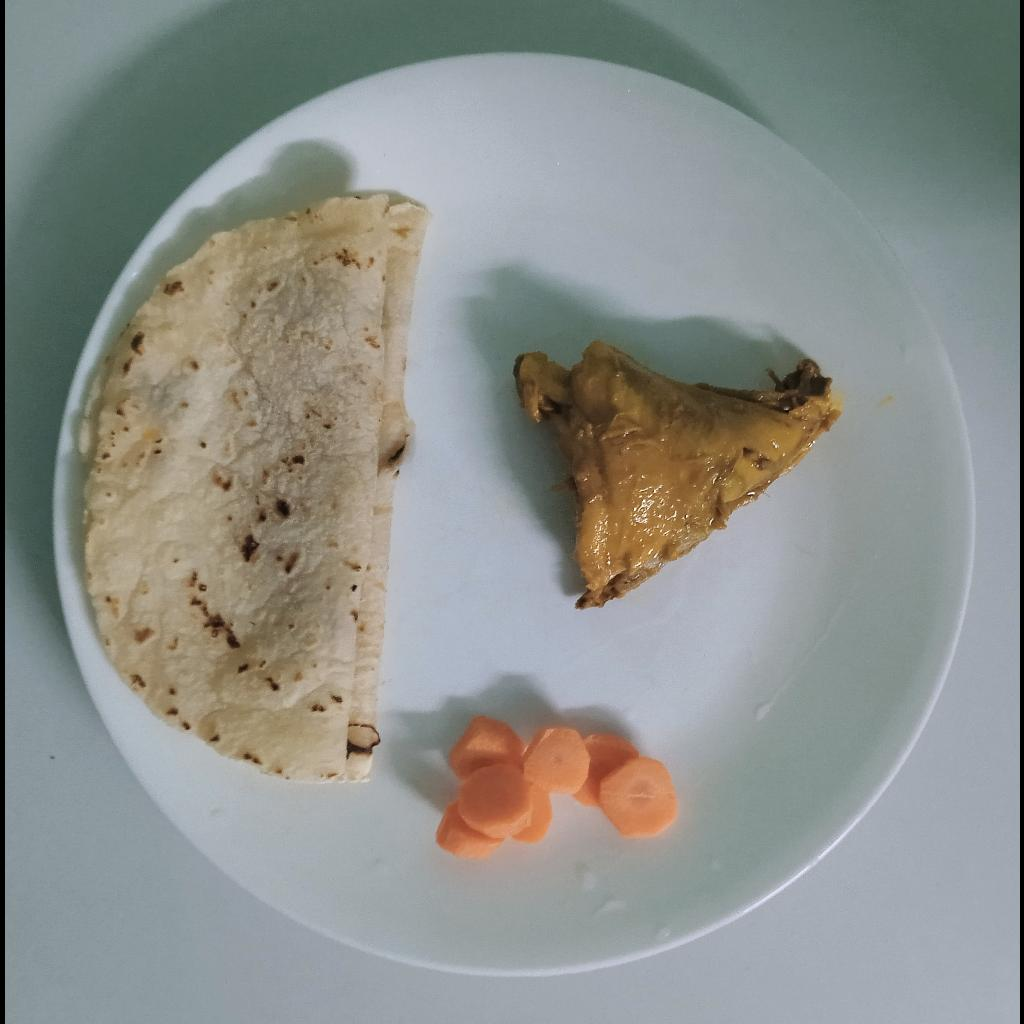carrot: (434, 715, 677, 862)
chicken: (510, 341, 838, 611)
ruti: (77, 194, 431, 786)
